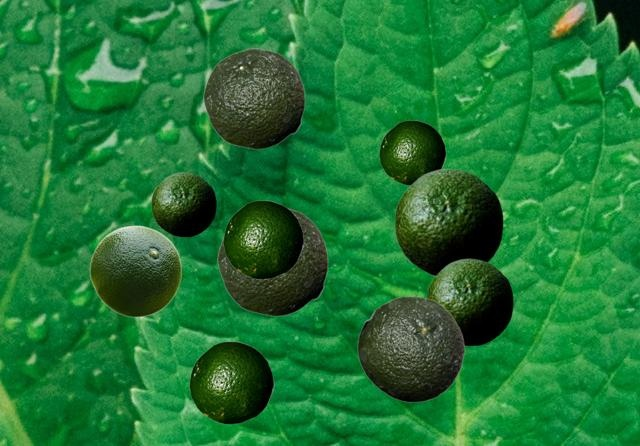calamansi: (217, 206, 327, 315), (394, 168, 502, 276), (357, 296, 464, 401), (203, 48, 304, 148), (89, 225, 181, 316), (426, 258, 512, 345), (189, 341, 273, 423), (223, 200, 303, 278), (379, 120, 445, 184), (151, 172, 215, 236)
